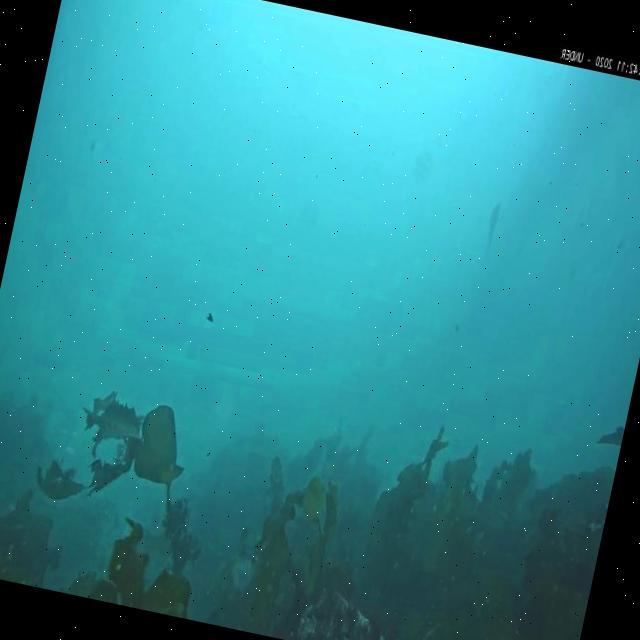fish: (478, 199, 504, 259)
